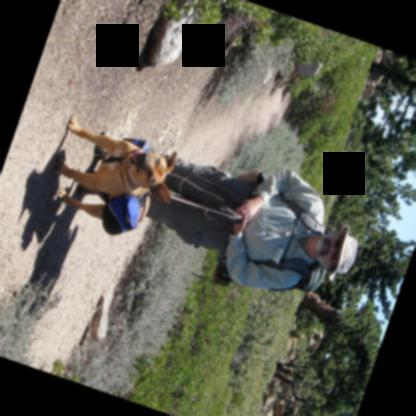backpack: (213, 199, 326, 295)
